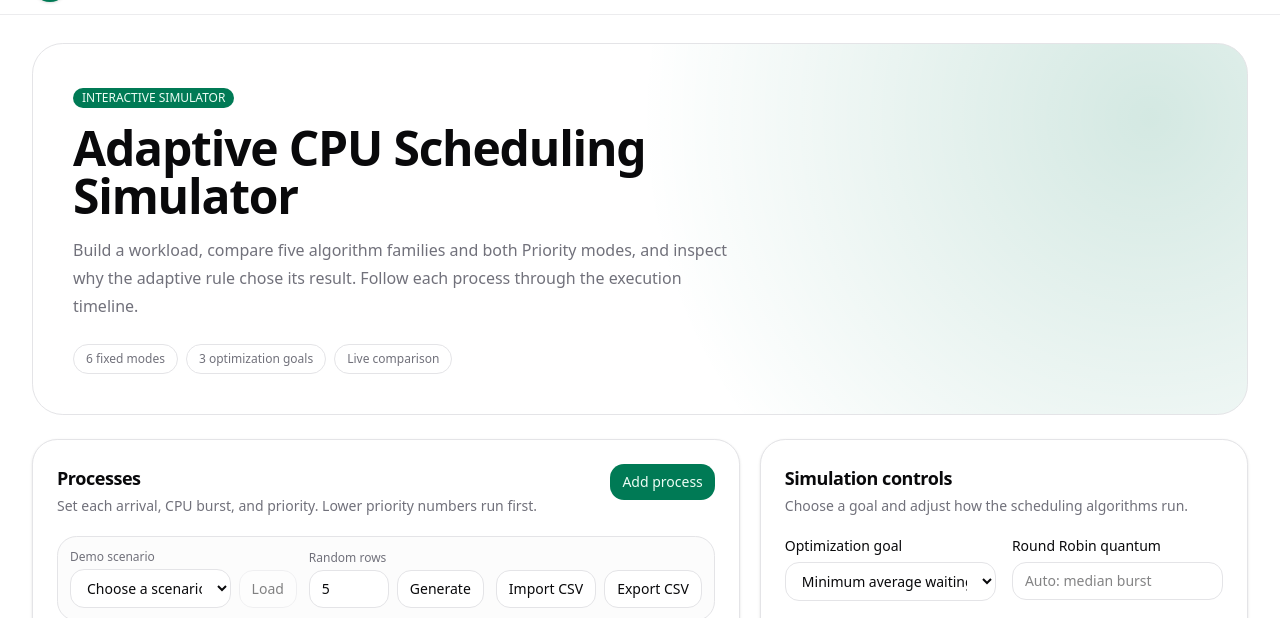
Test: simulator workflow › runs the manually adjusted priority demo scenario
The image size is (1280, 618).
Select "Priority spread" in the dropdown labelled "Demo scenario" at coordinates (150, 588), box top-left (70, 569), bottom-right (231, 608)
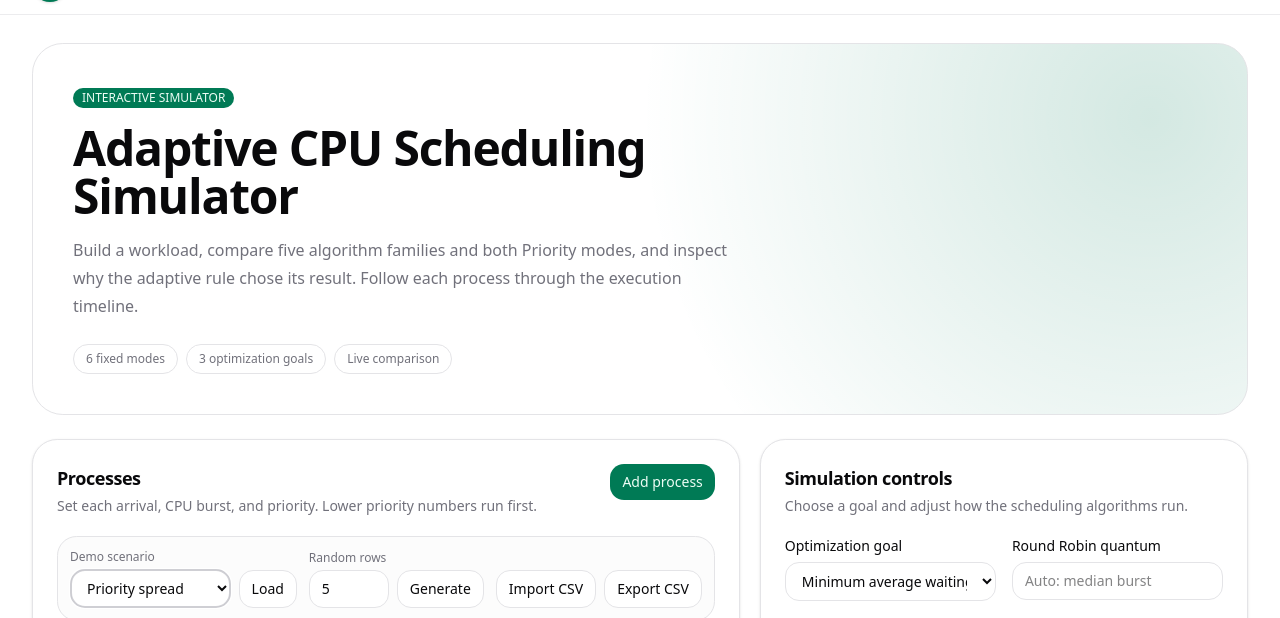
Click the button "Load" at coordinates (268, 589), box top-left (239, 570), bottom-right (297, 608)
(page scrolled)
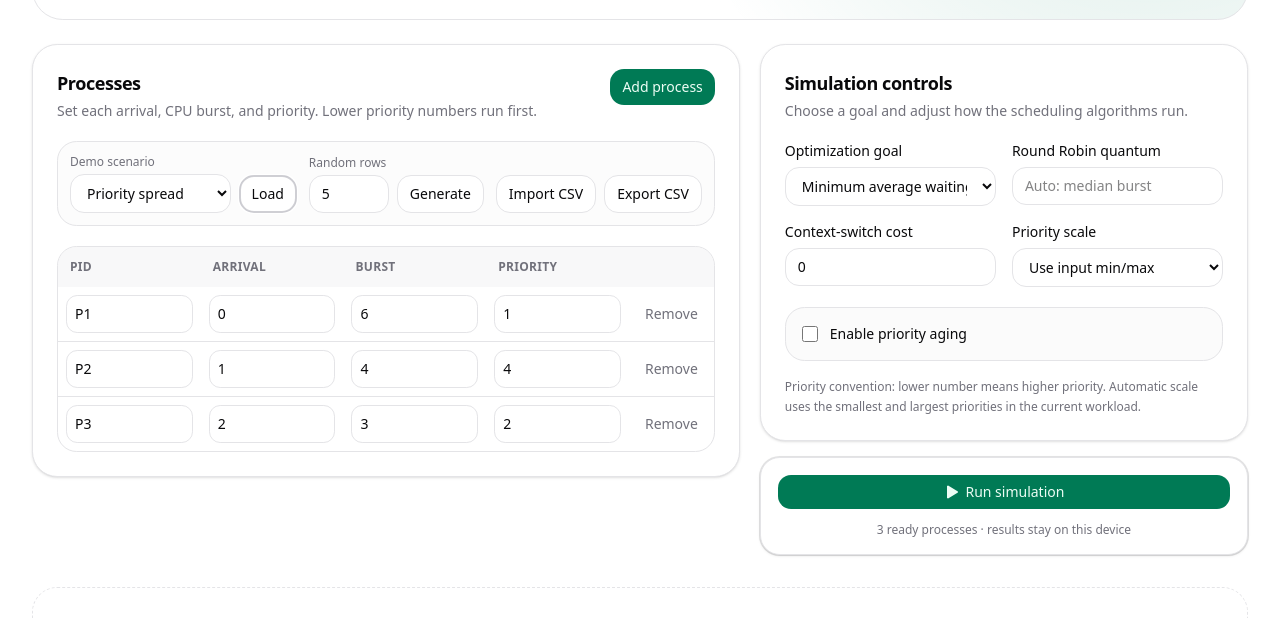
Replace the text in the number field named "Burst for row 1" with "7" at coordinates (415, 314), box top-left (351, 295), bottom-right (478, 333)
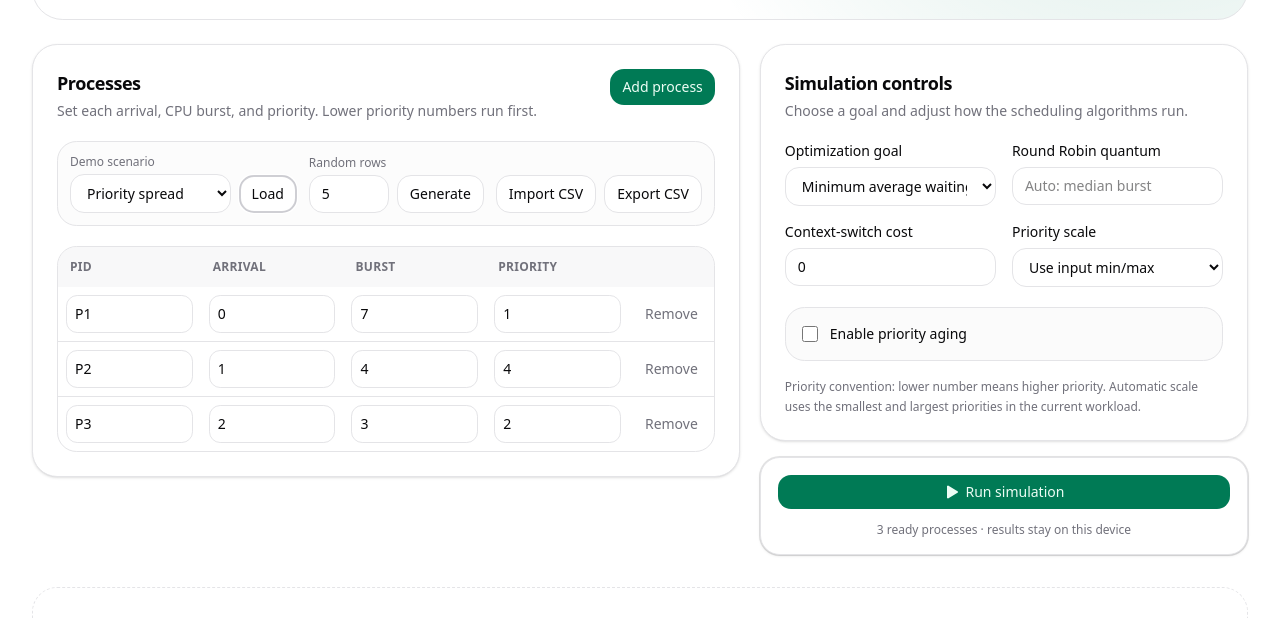
Click the button "Run simulation" at coordinates (1004, 492), box top-left (777, 474), bottom-right (1231, 510)
(page scrolled)
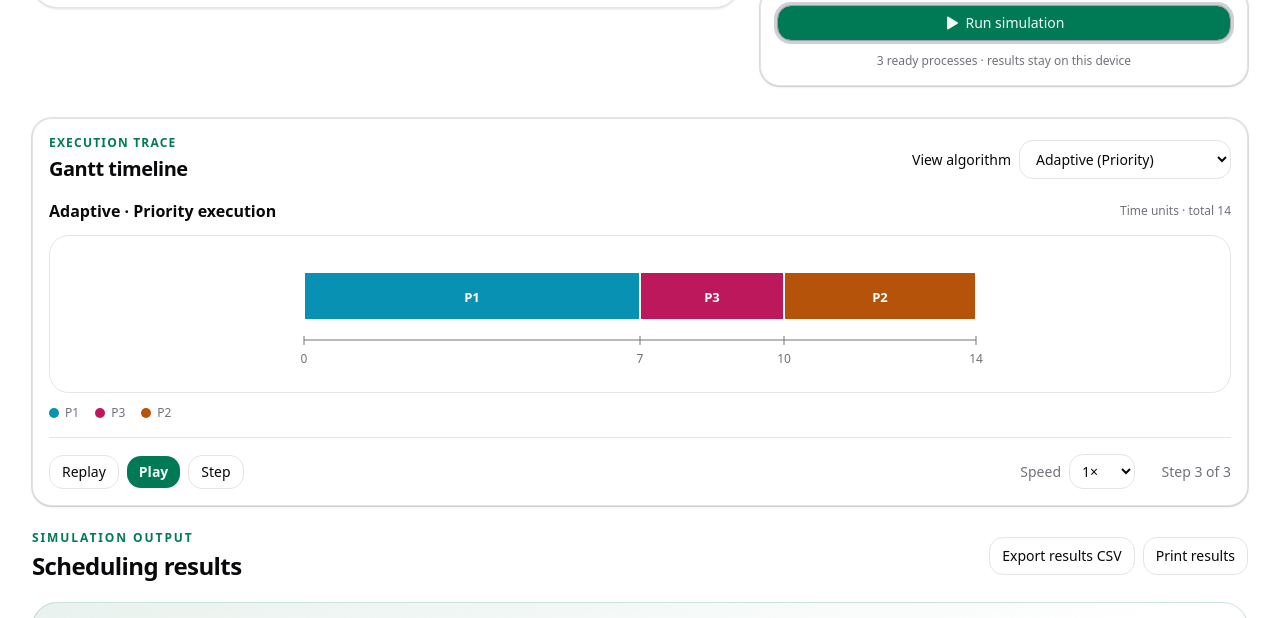
Expected: the icon "P1 P3 P2 0 7 10 14" is shown, top-left (62, 248), bottom-right (1218, 380)
